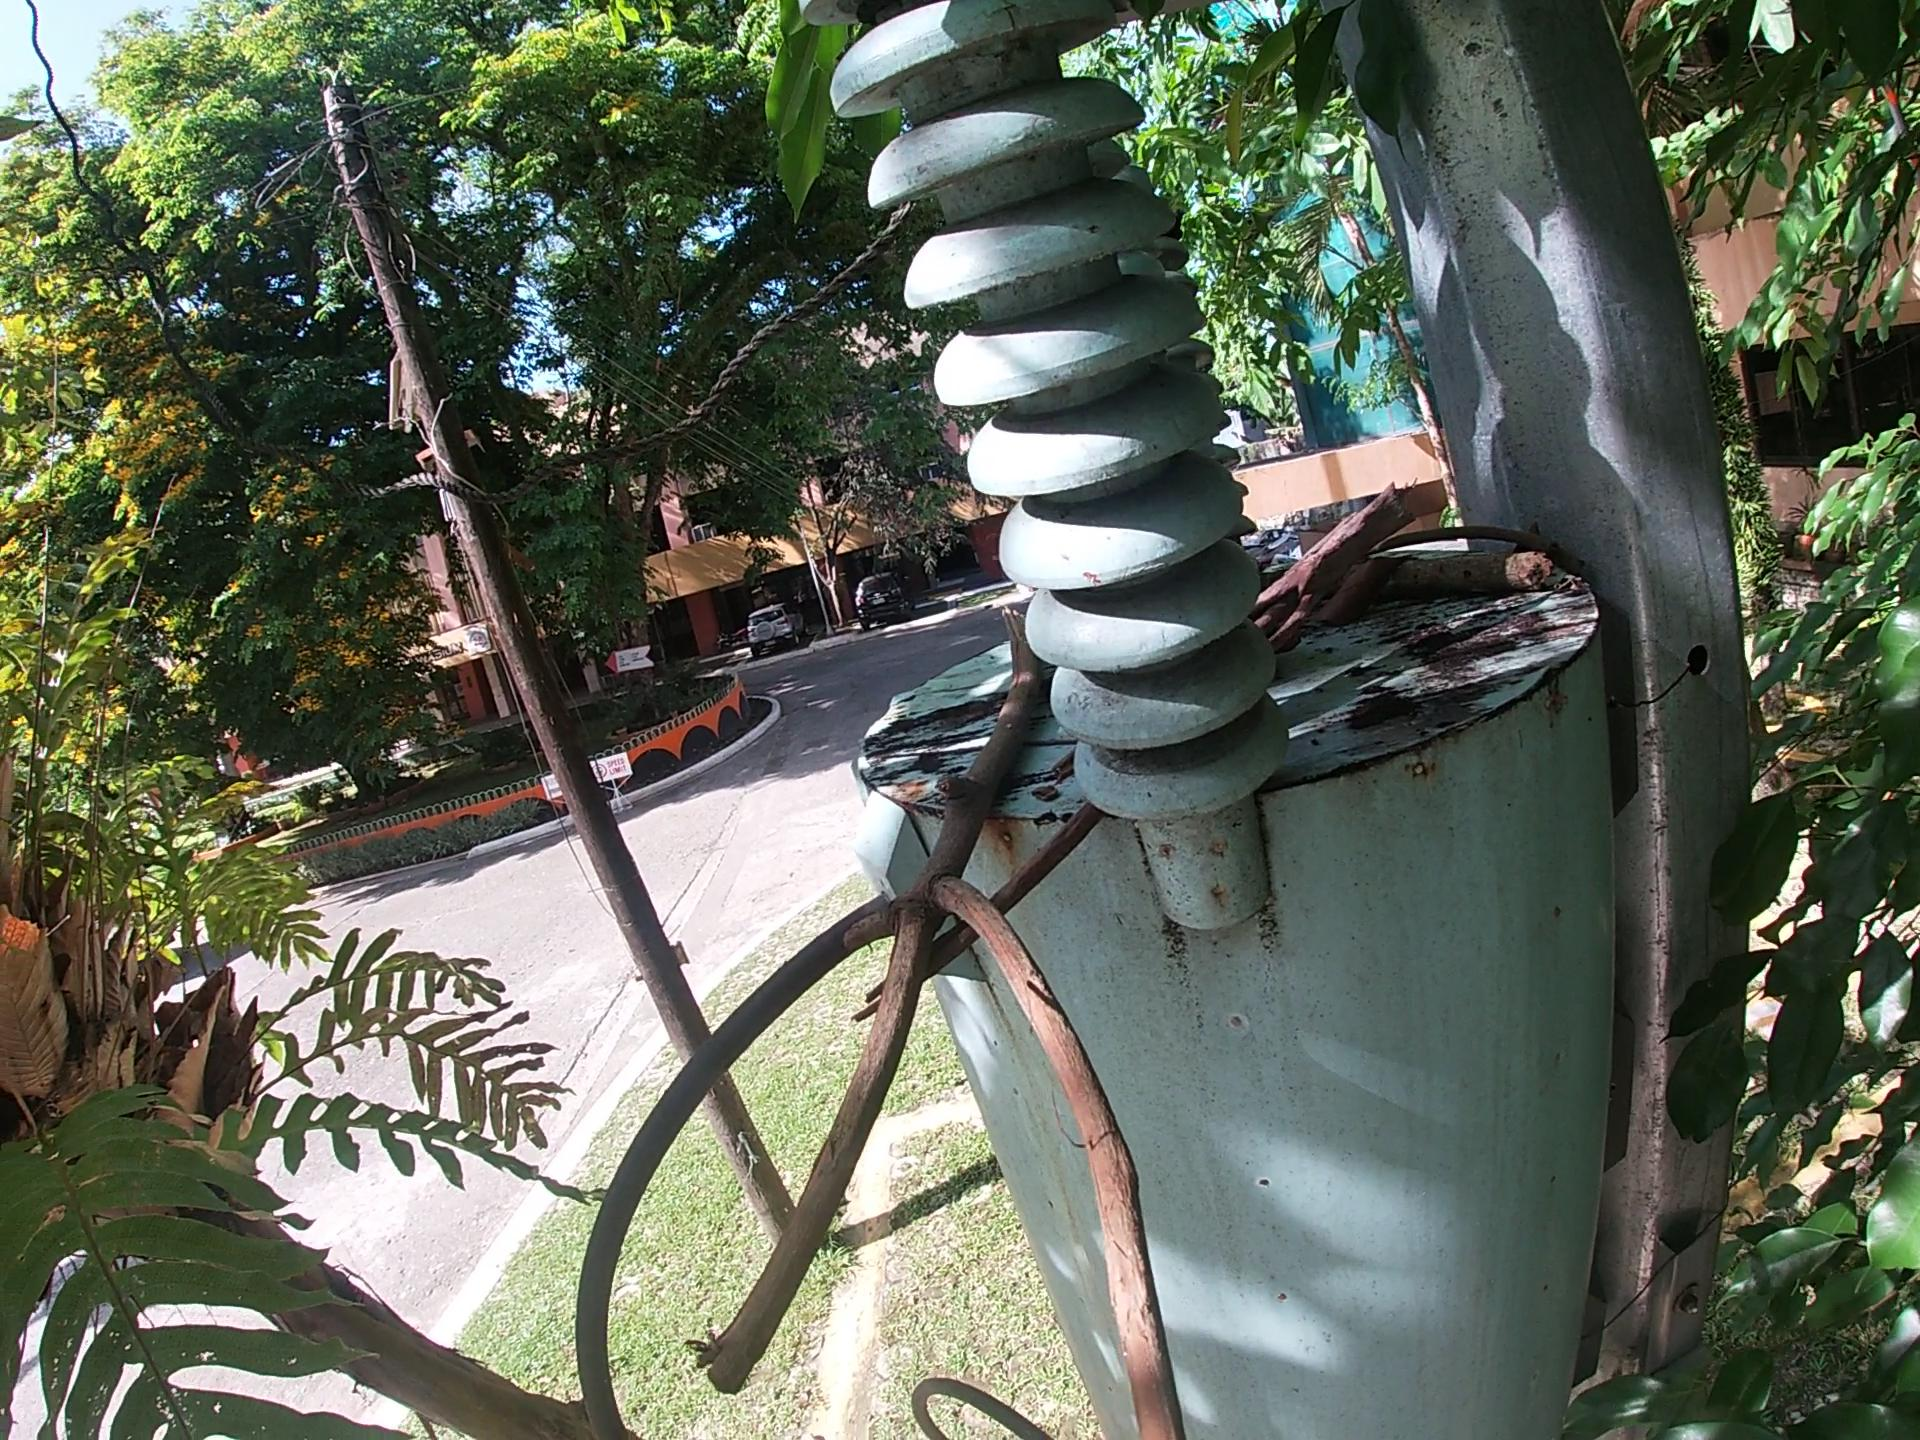leaf: (1308, 555, 1414, 629)
tree branch: (680, 596, 1203, 1438), (859, 796, 1110, 1023), (1249, 479, 1426, 666), (1361, 548, 1562, 607), (1374, 520, 1569, 558)
